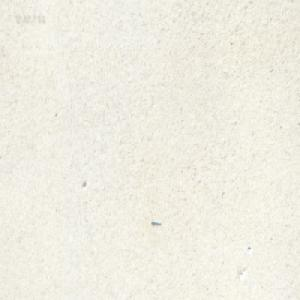Nail: (151, 219, 161, 227)
